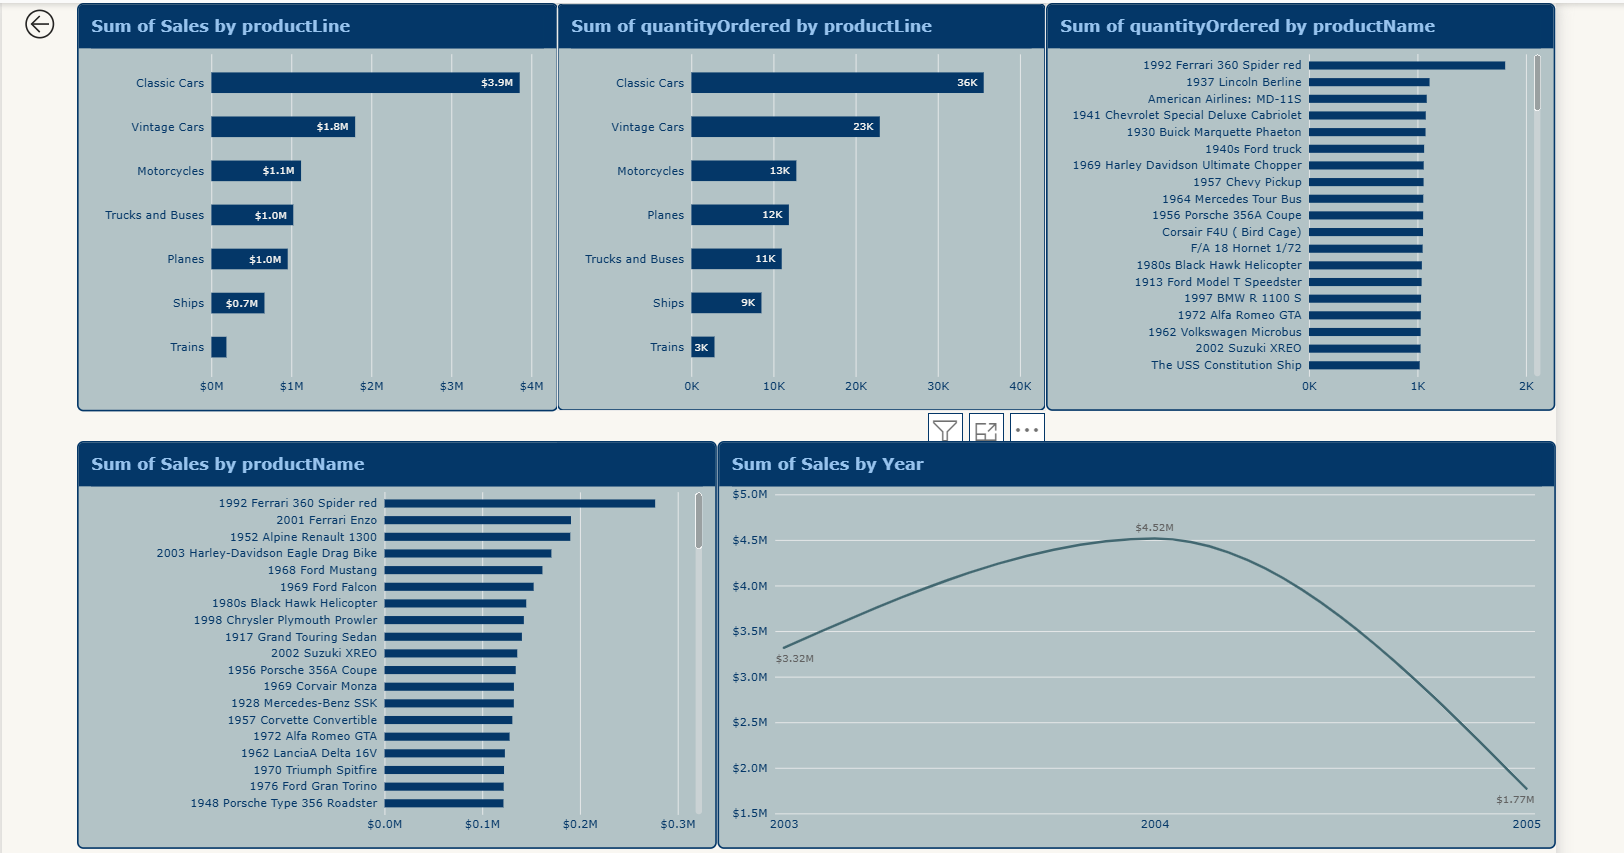

This screenshot's page, from the dashboard's own definition file:
{"tool":"powerbi","page":{"name":"Page 2","canvas":[1920,1080],"ordinal":2},"visuals":[{"type":"actionButton","box":[0,0,93.1,52.2],"z":0},{"type":"barChart","fields":{"Category":["productlines.productLine"],"Y":["Sum(order details.Sales)"]},"box":[92.4,0,594.5,504.5],"z":1000},{"type":"barChart","fields":{"Category":["productlines.productLine"],"Y":["Sum(order details.quantityOrdered)"]},"box":[685.9,0,604.2,504.2],"z":2000},{"type":"barChart","fields":{"Category":["products.productName"],"Y":["Sum(order details.Sales)"]},"box":[93.1,540.6,790.4,504.2],"z":3000},{"type":"barChart","fields":{"Category":["products.productName"],"Y":["Sum(order details.quantityOrdered)"]},"box":[1290.1,0,629.2,504.2],"z":4000},{"type":"lineChart","fields":{"Category":["orders.orderDate.Variation.Date Hierarchy.Year","orders.orderDate.Variation.Date Hierarchy.Quarter","orders.orderDate.Variation.Date Hierarchy.Month","orders.orderDate.Variation.Date Hierarchy.Day"],"Y":["Sum(order details.Sales)"]},"box":[883.5,540.6,1035.7,504.2],"z":5000}]}

Visuals, with their boxes in screenshot pixels (x1, y1, x2, y2):
actionButton: [0,0,71,42]
barChart - productlines.productLine x Sum(order details.Sales): [70,0,551,408]
barChart - productlines.productLine x Sum(order details.quantityOrdered): [550,0,1039,408]
barChart - products.productName x Sum(order details.Sales): [71,437,710,845]
barChart - products.productName x Sum(order details.quantityOrdered): [1039,0,1548,408]
lineChart - orders.orderDate.Variation.Date Hierarchy.Year x orders.orderDate.Variation.Date Hierarchy.Quarter: [710,437,1548,845]
